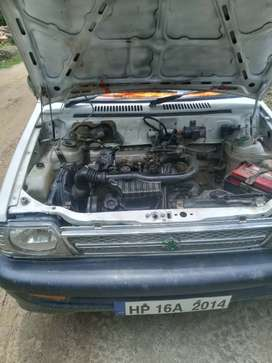HP16A2014: (113, 295, 231, 317)
